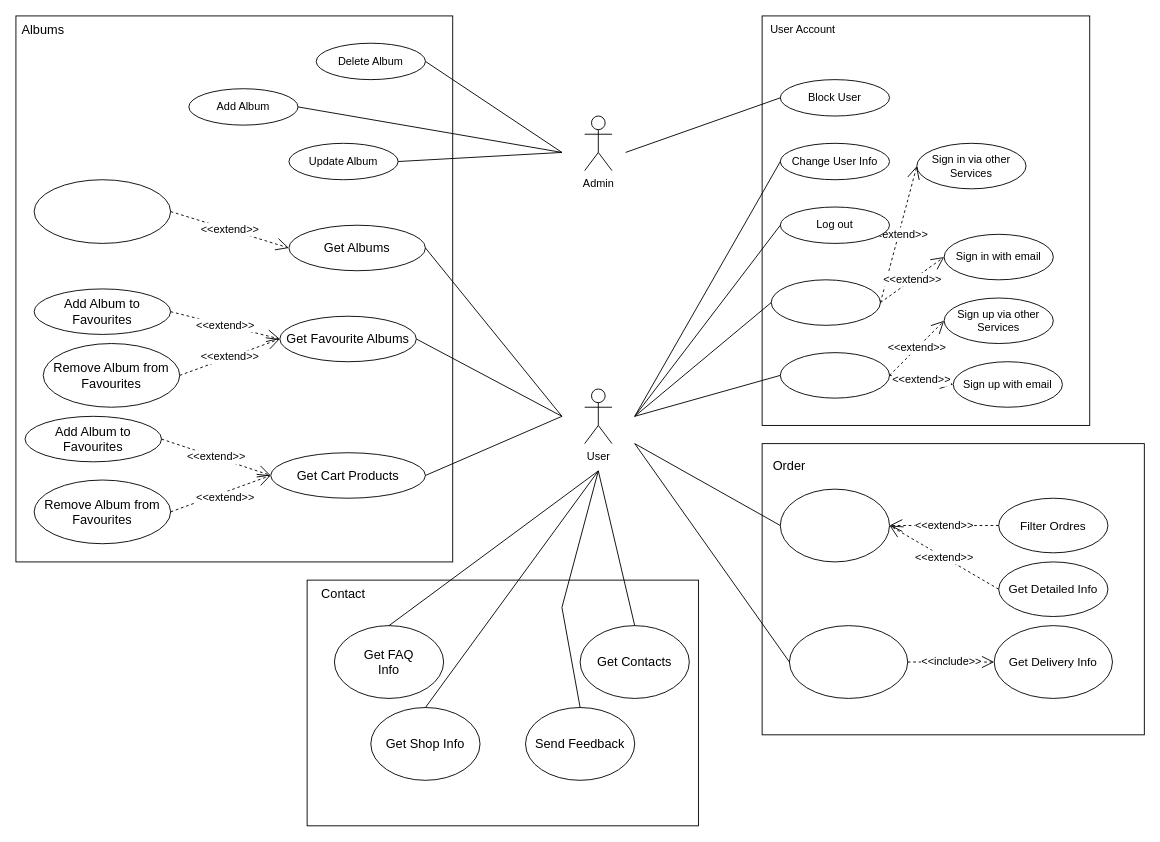
The diagram is 1160 pixels wide and 842 high, and some of its shapes have lost their labels. Each missing label, with the centre of its shape:
Get All Orders: [834,525]
Get Available Delivery Addresses: [848,661]
Sign in: [825,302]
Sign up: [834,375]
Sort Albums: [102,211]
